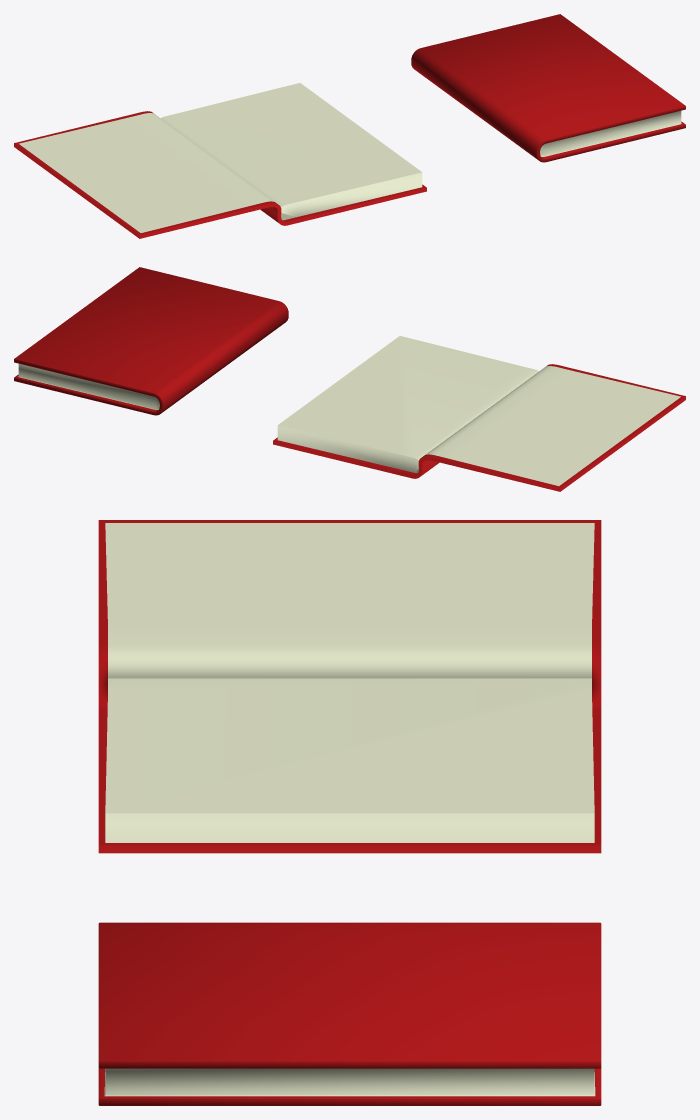
File: BookOpenGraybox.fbx
The picture shows the model from 3 angles, top to bottom: view 1: azimuth 30°, elevation 25°; view 2: azimuth 150°, elevation 25°; view 3: azimuth 270°, elevation 25°; orthographic projection. The views are drawn at different scales.
Visible parts, largest first — view 1: Book.001, Book Modifier; view 2: Book.001, Book Modifier; view 3: Book.001, Book Modifier.
Boxes of the visible parts, box(x1,y1,x2,y2) form: Book.001: box(14, 83, 426, 238); Book Modifier: box(411, 14, 685, 162); Book.001: box(273, 336, 685, 491); Book Modifier: box(14, 267, 288, 415); Book.001: box(98, 520, 601, 853); Book Modifier: box(98, 922, 601, 1105).
Bounding box in the file's own units: 731 × 33.76 × 291.
